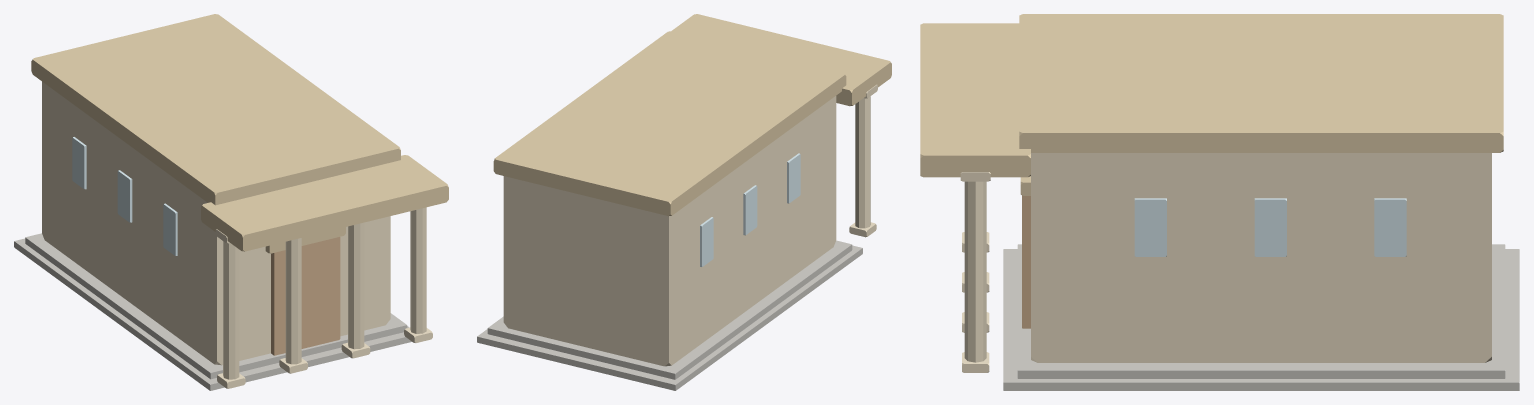
File: synagogue.glb
3 views of the same model, side by side, from view 1: azimuth 30°, elevation 25°; view 2: azimuth 150°, elevation 25°; view 3: azimuth 270°, elevation 25° (orthographic). The views are drawn at different scales.
Parts seen in each view (by area): view 1: body_m1, body_m0, body_m2, body_m3, base_m1, base_m0, col_3_m0, col_0_m0, col_1_m0, col_2_m0, body_m11, body_m9 (+2 smaller); view 2: body_m0, body_m1, body_m2, base_m1, base_m0, col_3_m0, body_m11, body_m13, body_m9; view 3: body_m0, body_m1, body_m2, base_m1, base_m0, col_0_m0, body_m10, body_m12, body_m14, body_m3.
Part boxes in pixels (bbox=[...]): body_m1: bbox=[31, 14, 400, 205]; body_m0: bbox=[42, 81, 390, 365]; body_m2: bbox=[201, 155, 448, 251]; body_m3: bbox=[271, 237, 340, 355]; base_m1: bbox=[25, 233, 407, 379]; base_m0: bbox=[14, 238, 411, 390]; col_3_m0: bbox=[223, 241, 239, 379]; col_0_m0: bbox=[410, 207, 426, 333]; col_1_m0: bbox=[348, 222, 364, 349]; col_2_m0: bbox=[285, 238, 301, 364]; body_m11: bbox=[117, 170, 132, 222]; body_m9: bbox=[72, 137, 86, 189]; body_m0: bbox=[503, 96, 836, 366]; body_m1: bbox=[493, 31, 846, 216]; body_m2: bbox=[671, 14, 891, 106]; base_m1: bbox=[487, 240, 852, 379]; base_m0: bbox=[477, 245, 862, 390]; col_3_m0: bbox=[855, 96, 870, 228]; body_m11: bbox=[743, 185, 757, 235]; body_m13: bbox=[787, 153, 800, 203]; body_m9: bbox=[700, 217, 713, 266]; body_m0: bbox=[1031, 153, 1491, 362]; body_m1: bbox=[1019, 14, 1503, 152]; body_m2: bbox=[920, 23, 1030, 177]; base_m1: bbox=[1017, 244, 1505, 378]; base_m0: bbox=[1003, 249, 1519, 390]; col_0_m0: bbox=[964, 181, 986, 362]; body_m10: bbox=[1374, 198, 1406, 256]; body_m12: bbox=[1254, 198, 1286, 256]; body_m14: bbox=[1134, 198, 1166, 256]; body_m3: bbox=[1022, 195, 1030, 328].
Size of the model in its own units: 5.04 by 4.41 by 9.56.
